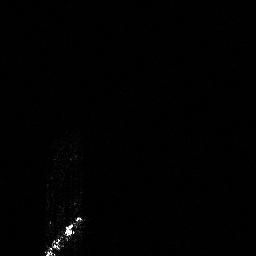ship: (42, 213, 85, 256)
